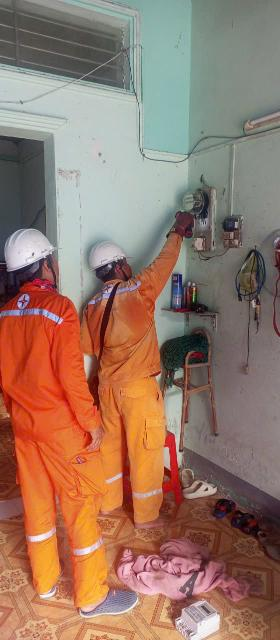gloves: (168, 205, 200, 244)
helmet: (0, 224, 64, 273), (87, 241, 136, 273)
shoes: (74, 582, 149, 620), (26, 552, 68, 605)
